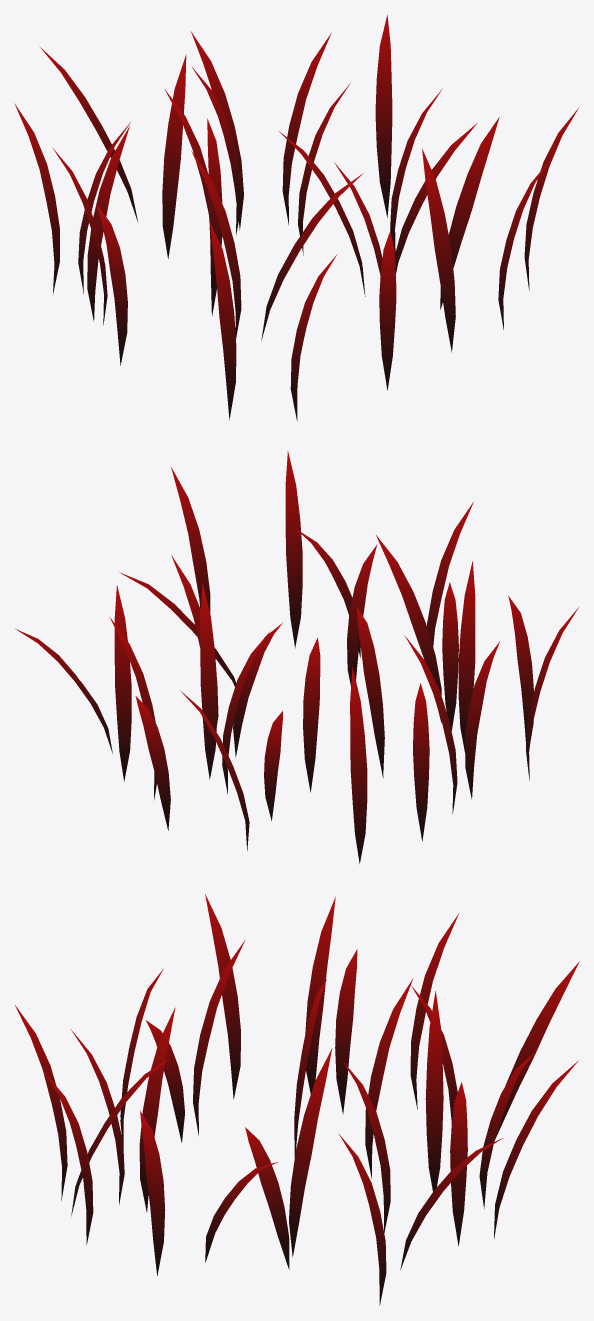
File: glass.fbx
The picture shows the model from 3 angles, top to bottom: view 1: azimuth 30°, elevation 25°; view 2: azimuth 150°, elevation 25°; view 3: azimuth 270°, elevation 25°; orthographic projection. The views are drawn at different scales.
Parts seen in each view (by area): view 1: Glass; view 2: Glass; view 3: Glass.
Boxes of the visible parts, x1,y1,x2,y2 form: Glass: [14, 15, 578, 421]; Glass: [15, 451, 579, 863]; Glass: [14, 894, 579, 1305].
Bounding box in the file's own units: 302 × 152 × 317.
